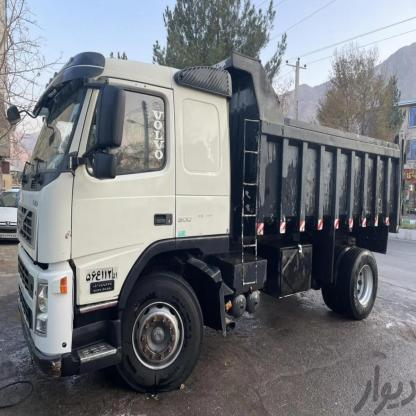Car: (0, 186, 20, 252)
Truck: (19, 60, 409, 392)
